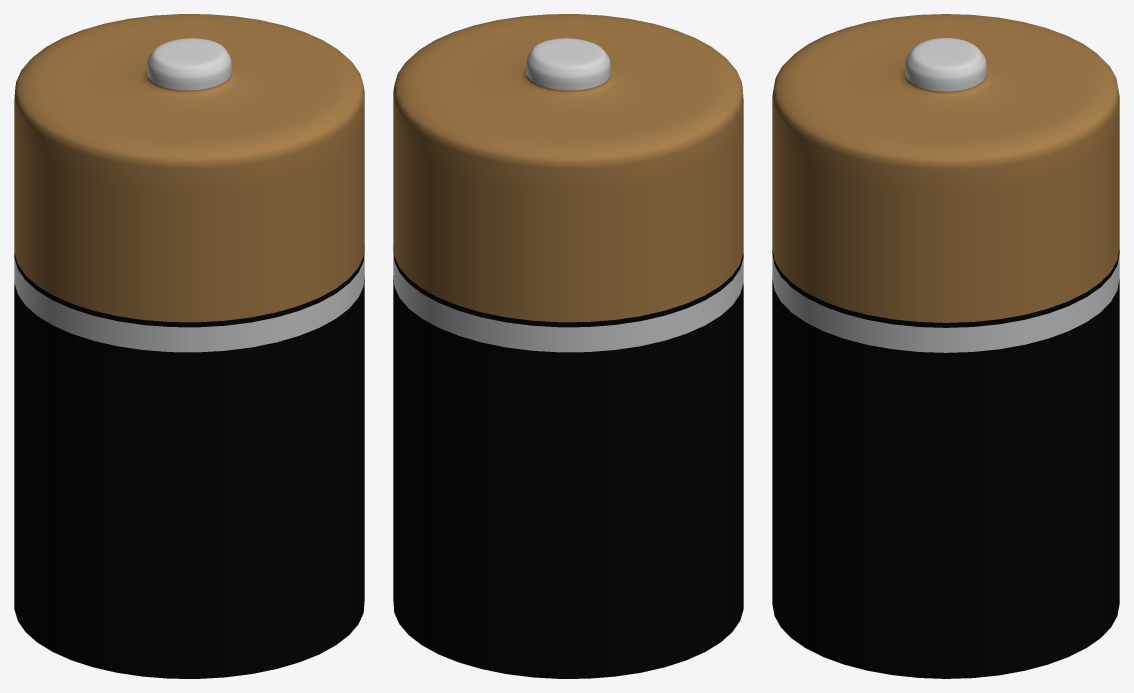
Rendered from Battery.gltf.
3 renders of one model, left to right at view 1: azimuth 30°, elevation 25°; view 2: azimuth 150°, elevation 25°; view 3: azimuth 270°, elevation 25°, orthographic.
Visible parts, largest first — view 1: pCylinder1; view 2: pCylinder1; view 3: pCylinder1.
Part boxes in pixels (x1=…): pCylinder1: x1=14, y1=14, x2=364, y2=678; pCylinder1: x1=393, y1=14, x2=743, y2=678; pCylinder1: x1=772, y1=14, x2=1119, y2=678.
Size of the model in its own units: 2.96 by 5.27 by 2.93.
